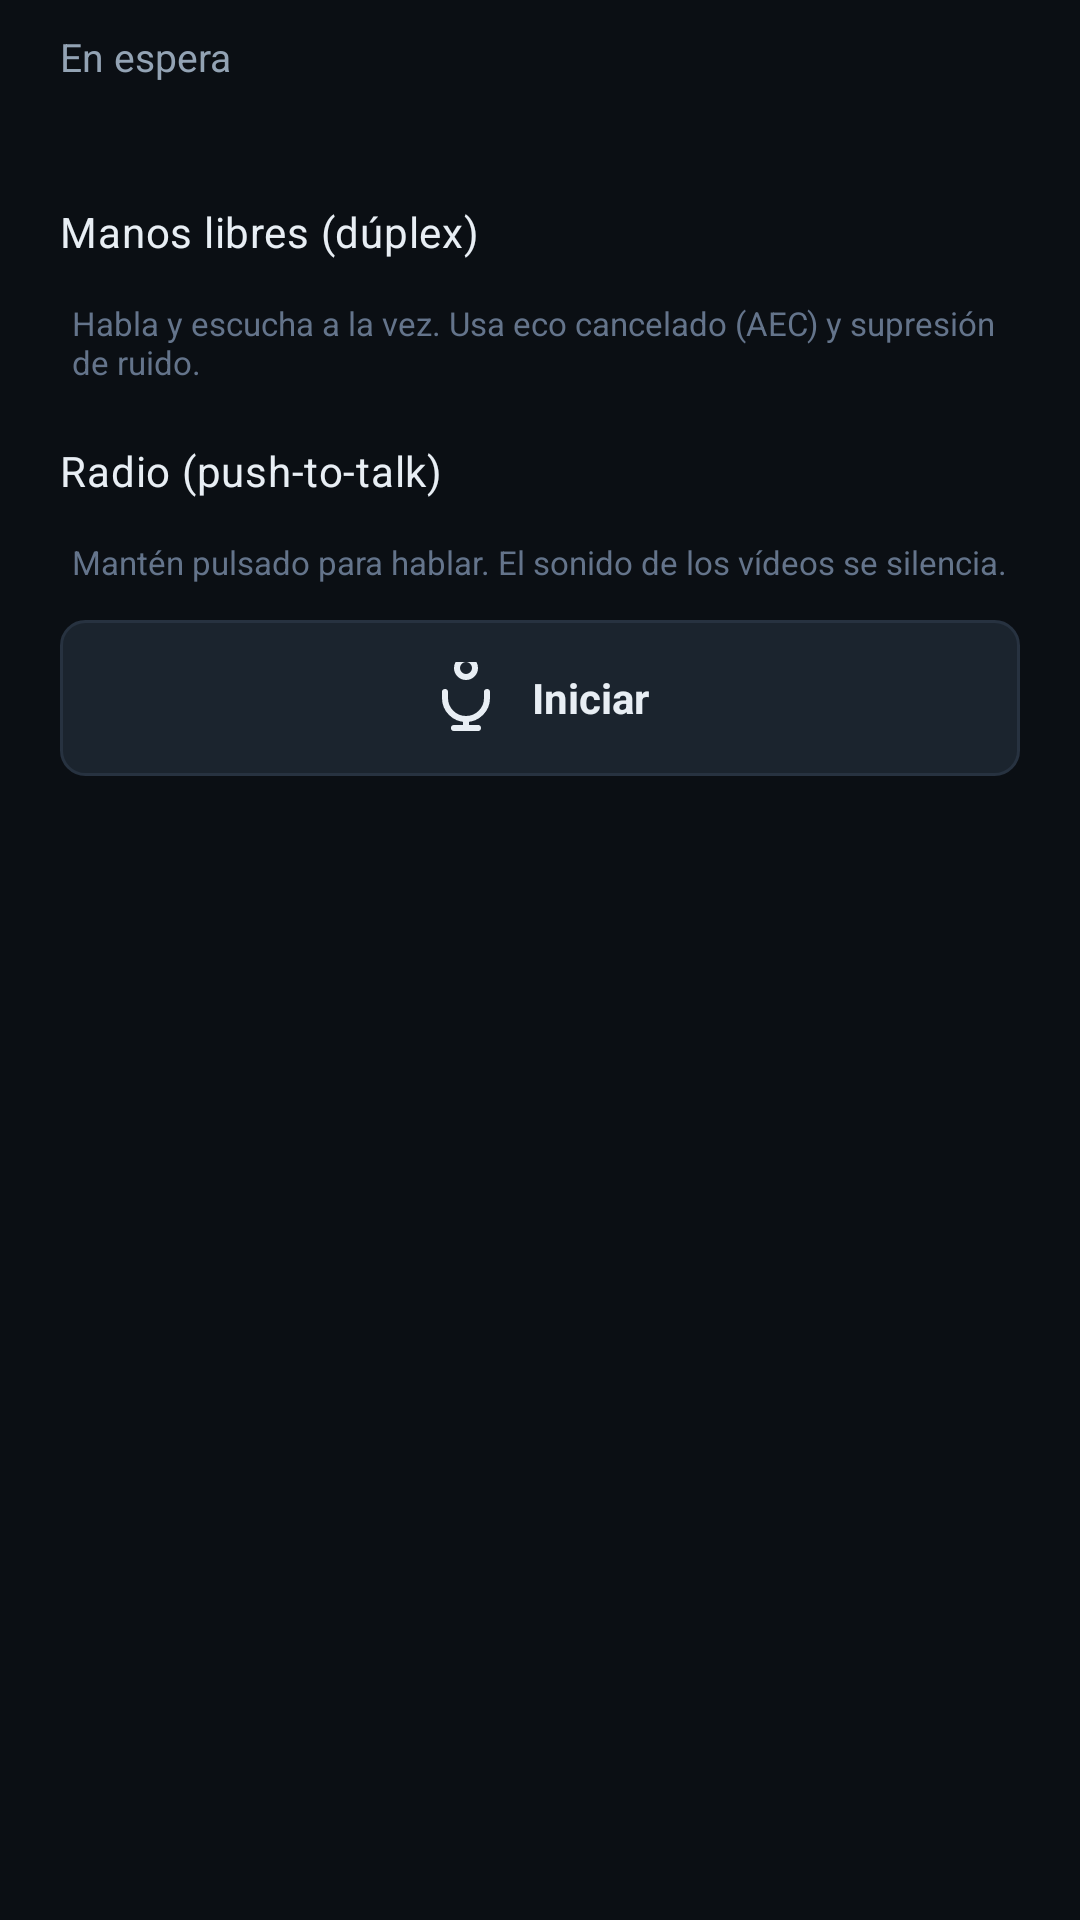

Where to tap for icons on this 1080px x 1920px app screen, as [x,y]:
mic: [466,696]
